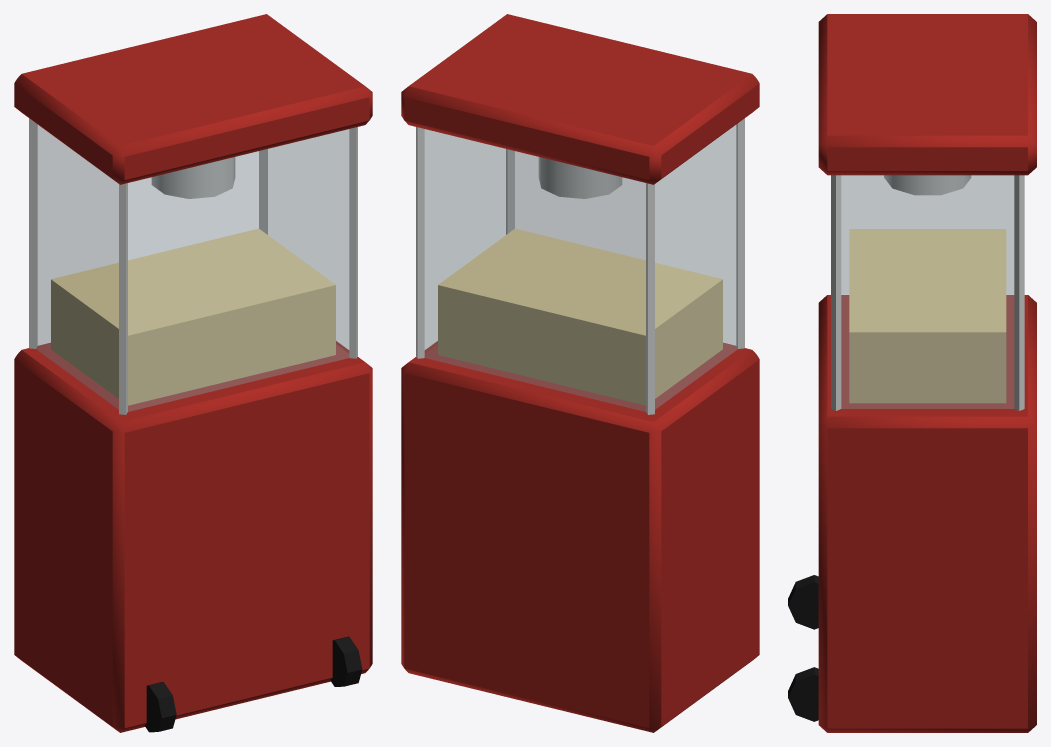
The model's file is popcorn_cart.glb.
3 renders of one model, left to right at view 1: azimuth 30°, elevation 25°; view 2: azimuth 150°, elevation 25°; view 3: azimuth 270°, elevation 25°, orthographic.
Parts seen in each view (by area): view 1: PopcornCart; view 2: PopcornCart; view 3: PopcornCart.
Part boxes in pixels (left/top/right/bottom): PopcornCart: left=14, top=14, right=372, bottom=732; PopcornCart: left=401, top=14, right=759, bottom=732; PopcornCart: left=788, top=14, right=1036, bottom=732.
Bounding box in the file's own units: 0.7 × 1.51 × 0.57.
